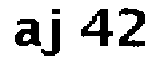2: (116, 5, 155, 57)
4: (81, 10, 118, 50)
a: (10, 15, 41, 47)
j: (41, 6, 71, 59)
